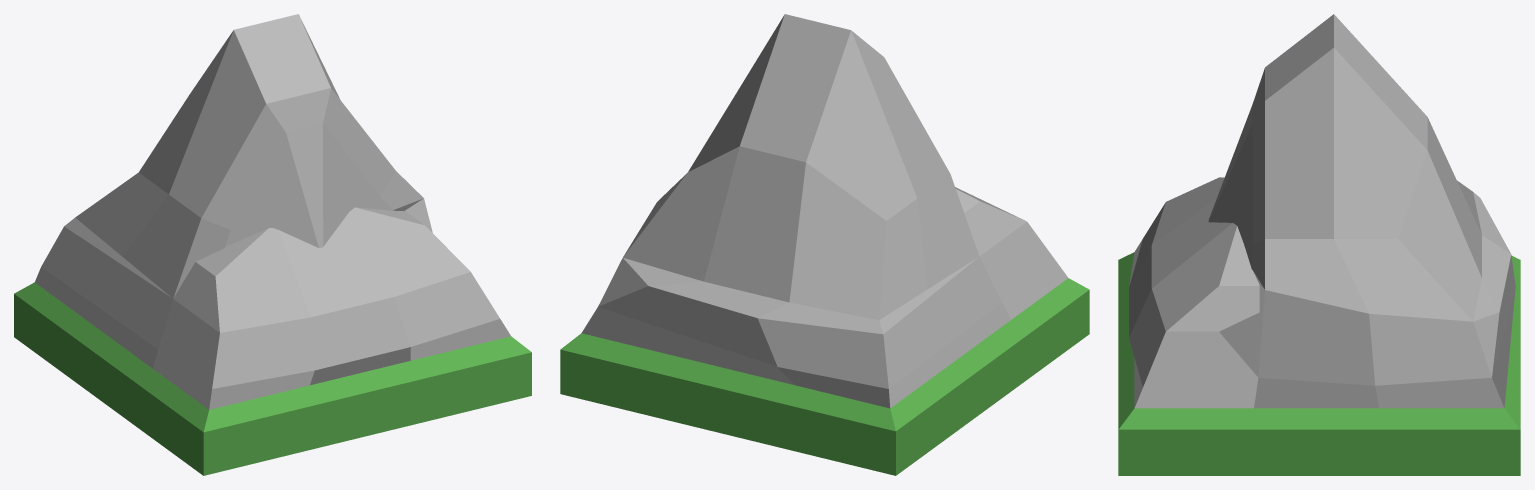
The model's file is MountainTile.fbx.
3 renders of one model, left to right at view 1: azimuth 30°, elevation 25°; view 2: azimuth 150°, elevation 25°; view 3: azimuth 270°, elevation 25°, orthographic. The views are drawn at different scales.
Visible parts, largest first — view 1: Cube; view 2: Cube; view 3: Cube.
Boxes of the visible parts, x1,y1,x2,y2 form: Cube: (14,14,531,475); Cube: (560,14,1089,475); Cube: (1118,14,1520,475).
Bounding box in the file's own units: 600 × 593 × 600.
